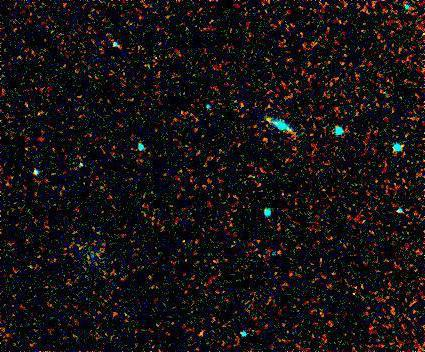star: (260, 106, 290, 136)
